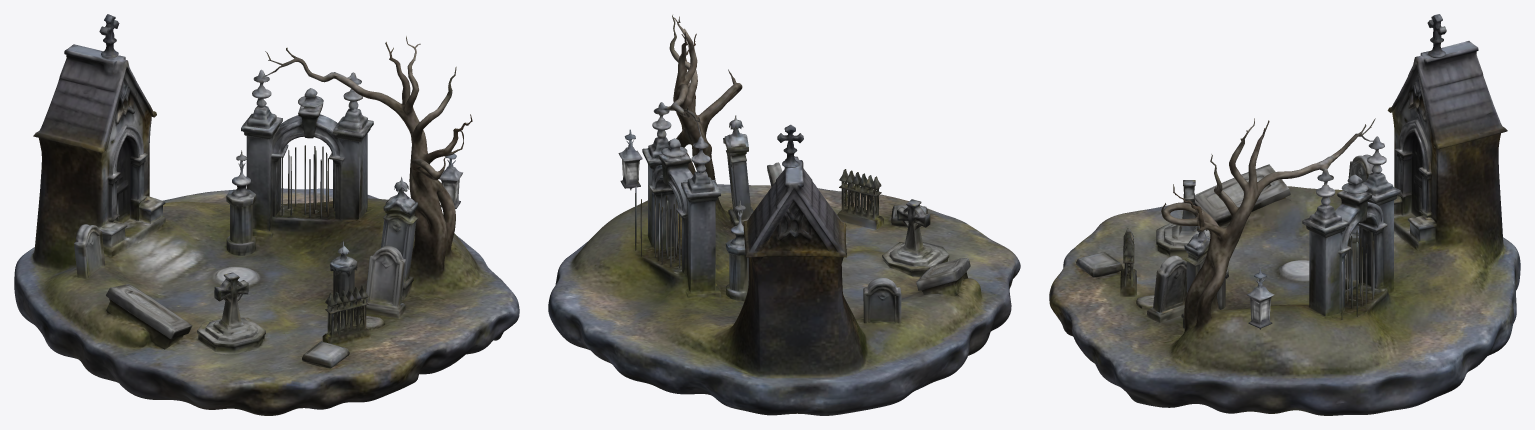
The model's file is graveyard.glb.
3 renders of one model, left to right at view 1: azimuth 30°, elevation 25°; view 2: azimuth 150°, elevation 25°; view 3: azimuth 270°, elevation 25°, orthographic. The views are drawn at different scales.
Visible parts, largest first — view 1: convert; view 2: convert; view 3: convert.
Part boxes in pixels (x1,y1,x2,y2): convert: (14,14,519,415); convert: (548,15,1020,415); convert: (1049,14,1520,415).
Bounding box in the file's own units: 0.9565 × 0.6332 × 0.9828.
Materials: 1 (1 with a texture image).
